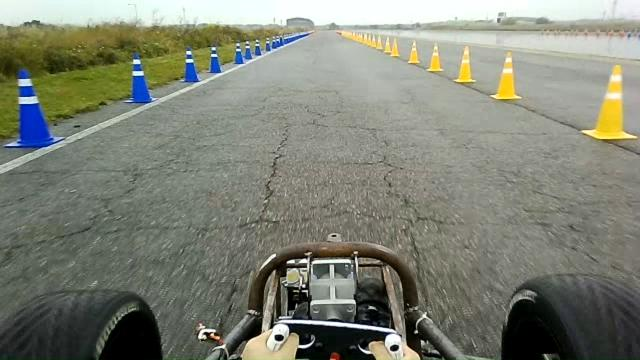blue cone: (4, 68, 64, 148), (124, 52, 158, 103), (180, 46, 201, 82), (206, 45, 222, 73), (232, 41, 245, 64)
yellow cone: (580, 64, 637, 140), (490, 50, 522, 100), (453, 45, 476, 83), (427, 42, 443, 72), (407, 40, 420, 63), (390, 37, 400, 57)
